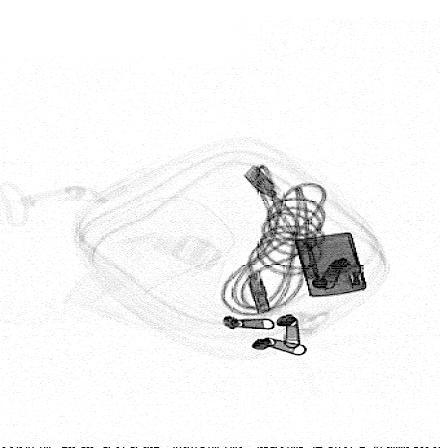Lighter: (295, 232, 368, 297)
